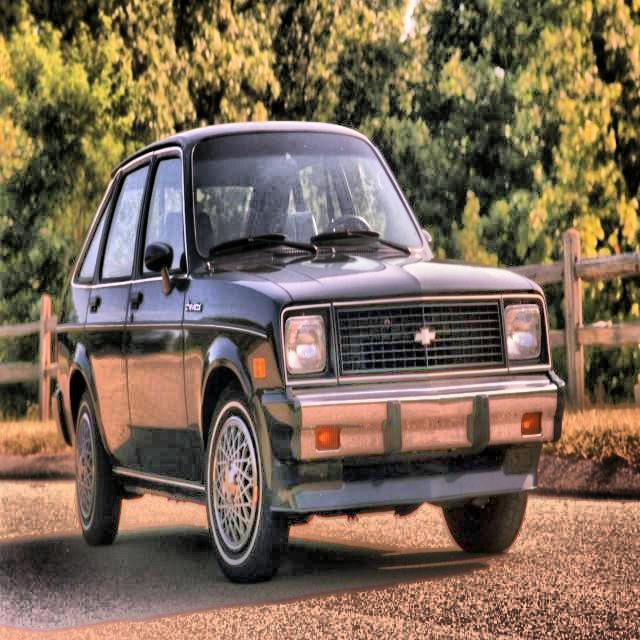carro: (51, 121, 563, 586)
